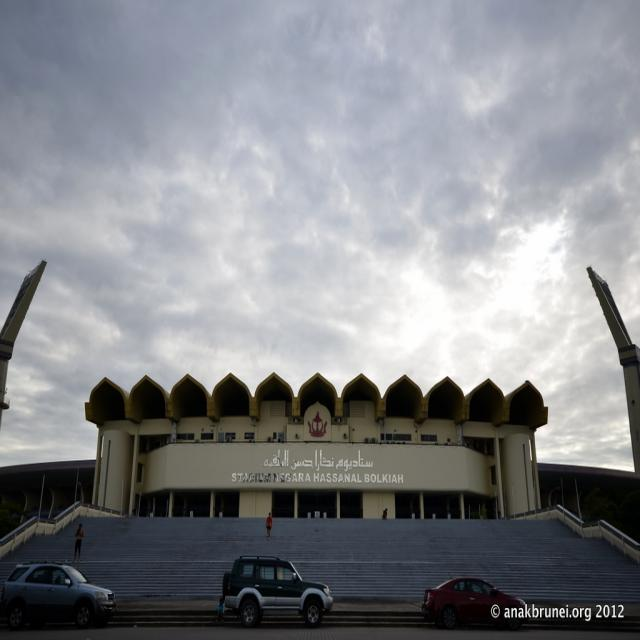car: (220, 555, 331, 633), (420, 574, 530, 628)
